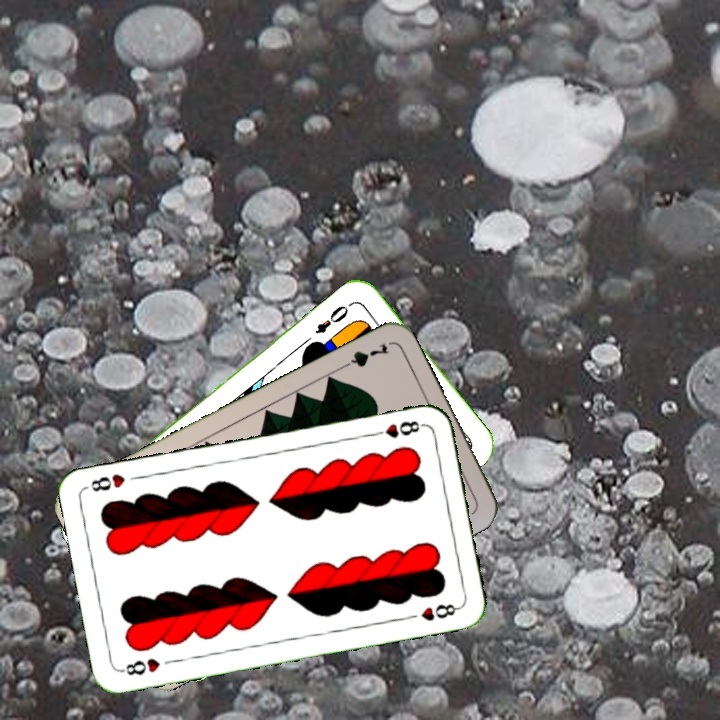EO: (310, 301, 351, 337)
G7: (335, 339, 392, 373)
H8: (368, 416, 427, 441), (117, 654, 163, 678)
